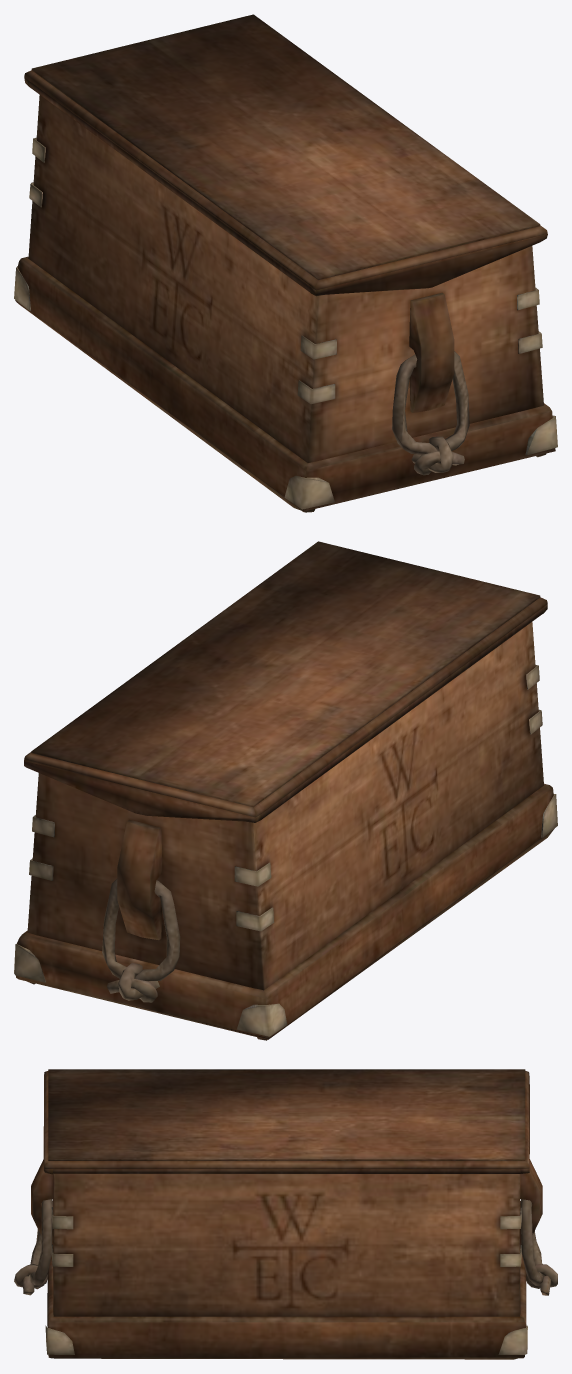
The model's file is crate_long.glb.
3 views of the same model, one above another, from view 1: azimuth 30°, elevation 25°; view 2: azimuth 150°, elevation 25°; view 3: azimuth 270°, elevation 25° (orthographic). The views are drawn at different scales.
Visible parts, largest first — view 1: wooden_crate_02_crate; view 2: wooden_crate_02_crate; view 3: wooden_crate_02_crate.
Boxes of the visible parts, x1,y1,x2,y2 form: wooden_crate_02_crate: (14, 14, 557, 512); wooden_crate_02_crate: (14, 541, 557, 1040); wooden_crate_02_crate: (14, 1069, 557, 1359).
Bounding box in the file's own units: 0.5291 × 0.464 × 1.16.
Materials: 1 (1 with a texture image).
